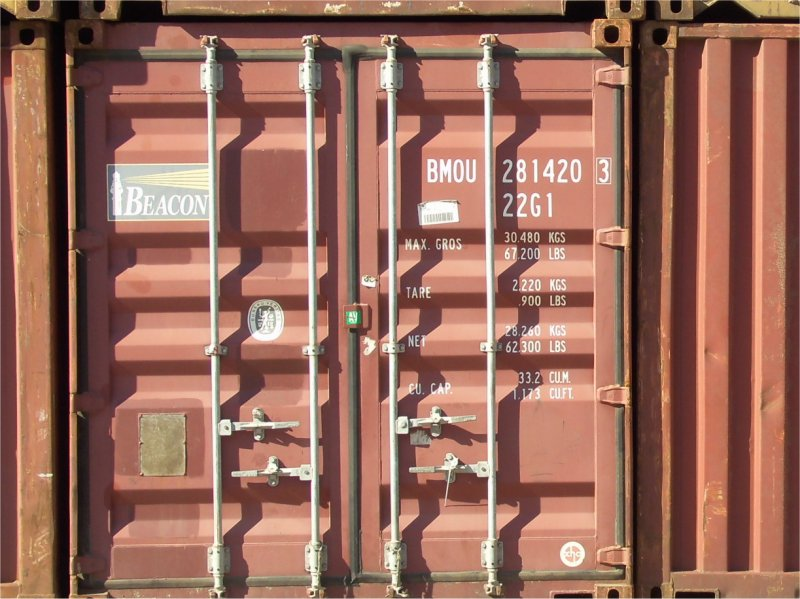container_door: (67, 20, 626, 599)
